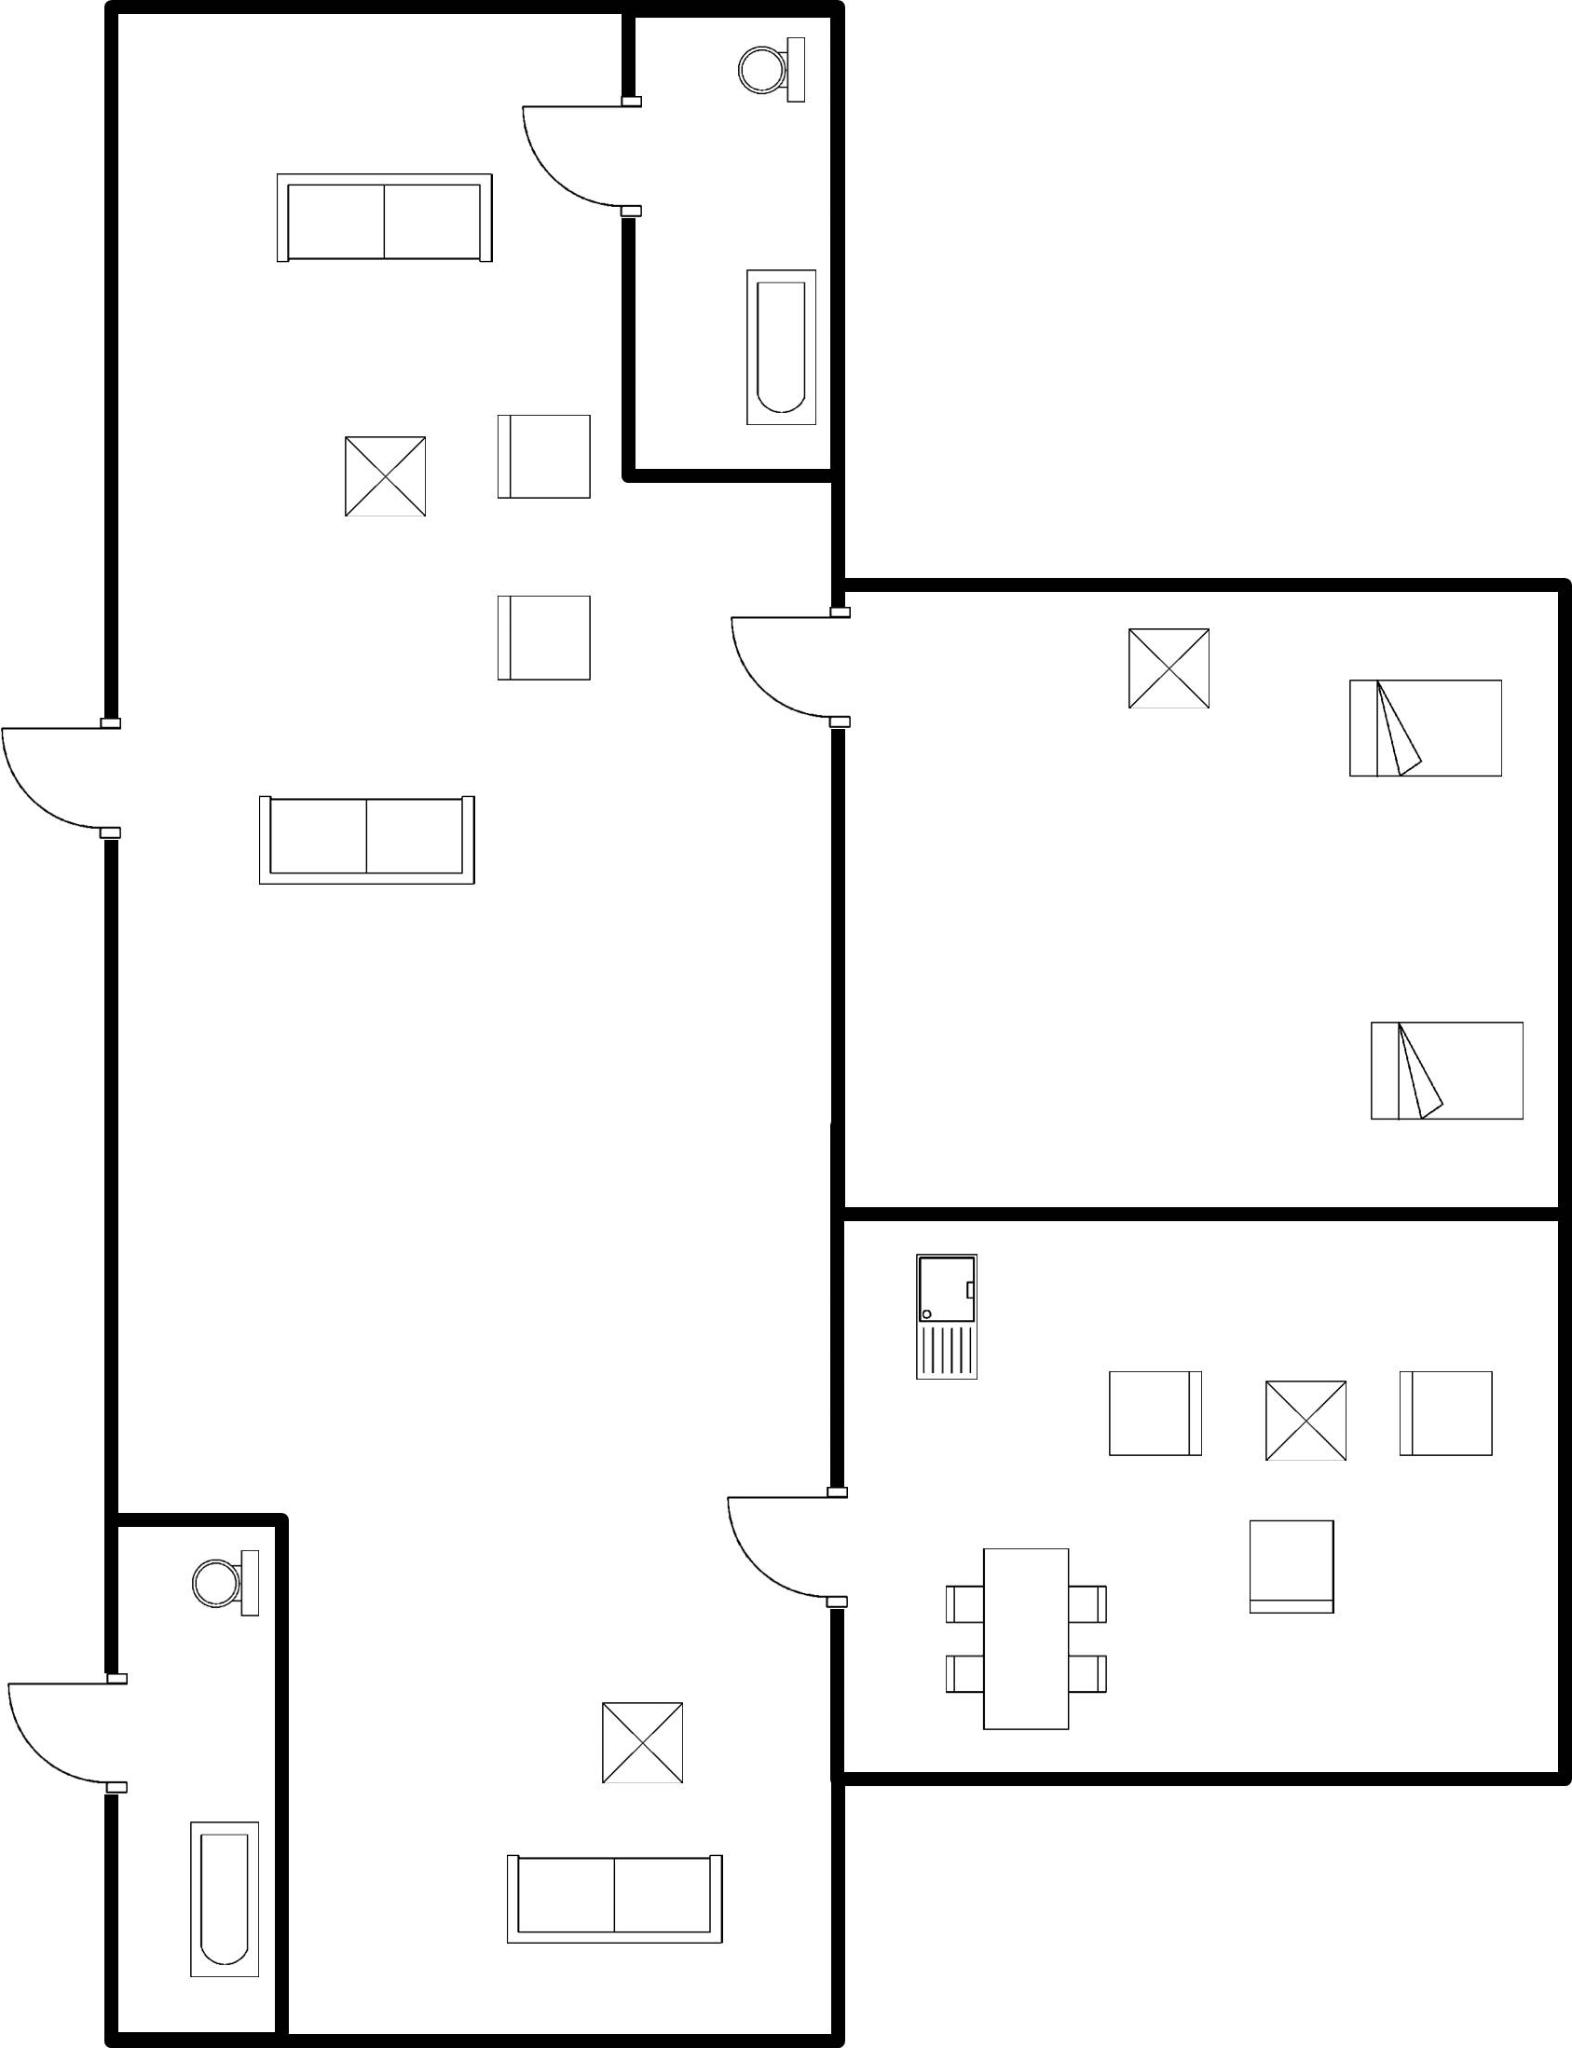bed: (1357, 1001, 1537, 1138), (1338, 667, 1516, 794)
dining_table: (935, 1528, 1128, 1747)
sink: (908, 1242, 991, 1397)
sofa: (487, 1840, 750, 1960), (246, 776, 494, 897), (264, 157, 509, 276)
toilet: (178, 1536, 277, 1640), (722, 23, 817, 122)
tub: (730, 249, 831, 441), (175, 1809, 276, 1989)
